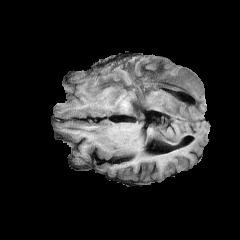glioma: (93, 57, 205, 119)
